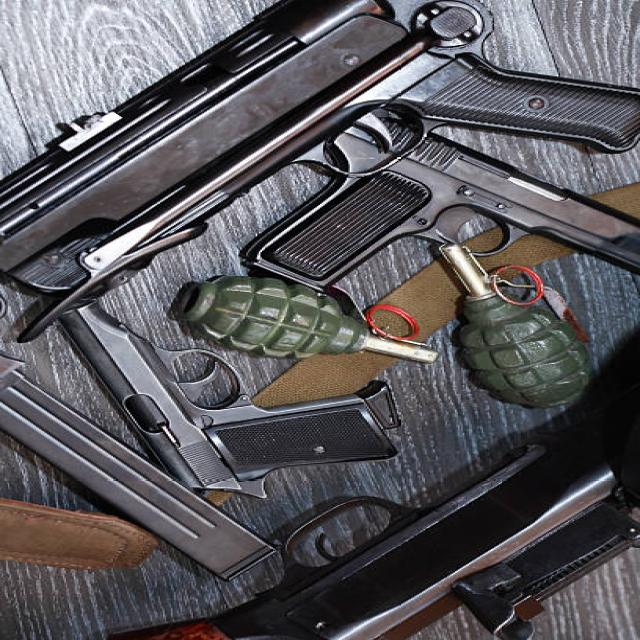grenade: (433, 241, 599, 414), (165, 271, 443, 370)
